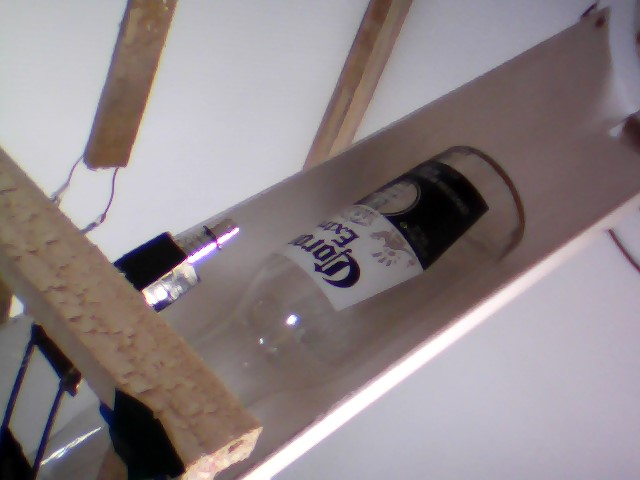vidrio: (180, 140, 532, 427)
